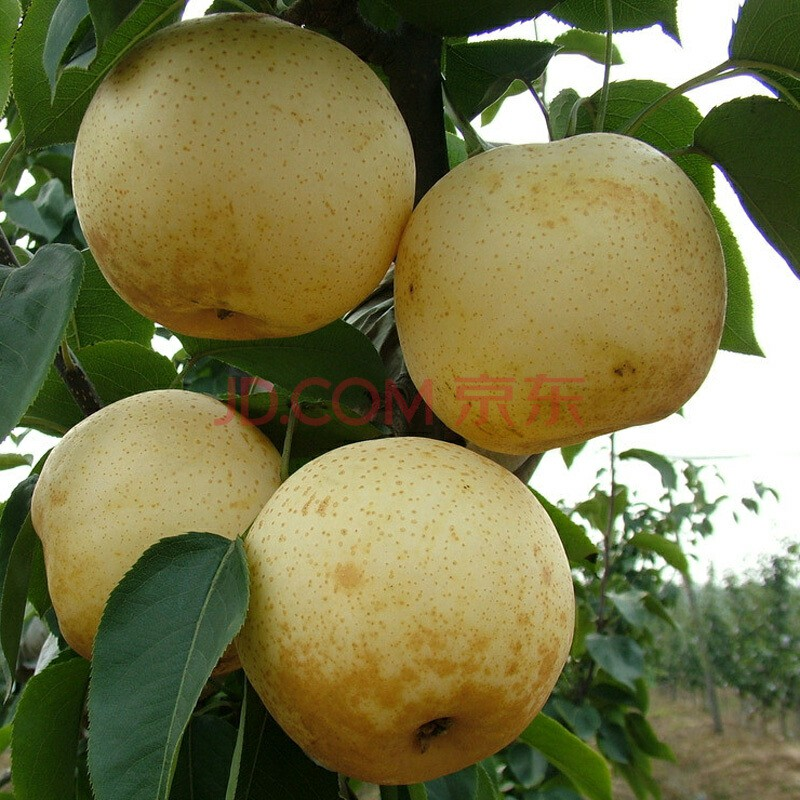pear: (238, 432, 573, 786), (71, 14, 419, 338), (398, 133, 725, 449), (29, 390, 293, 662)
